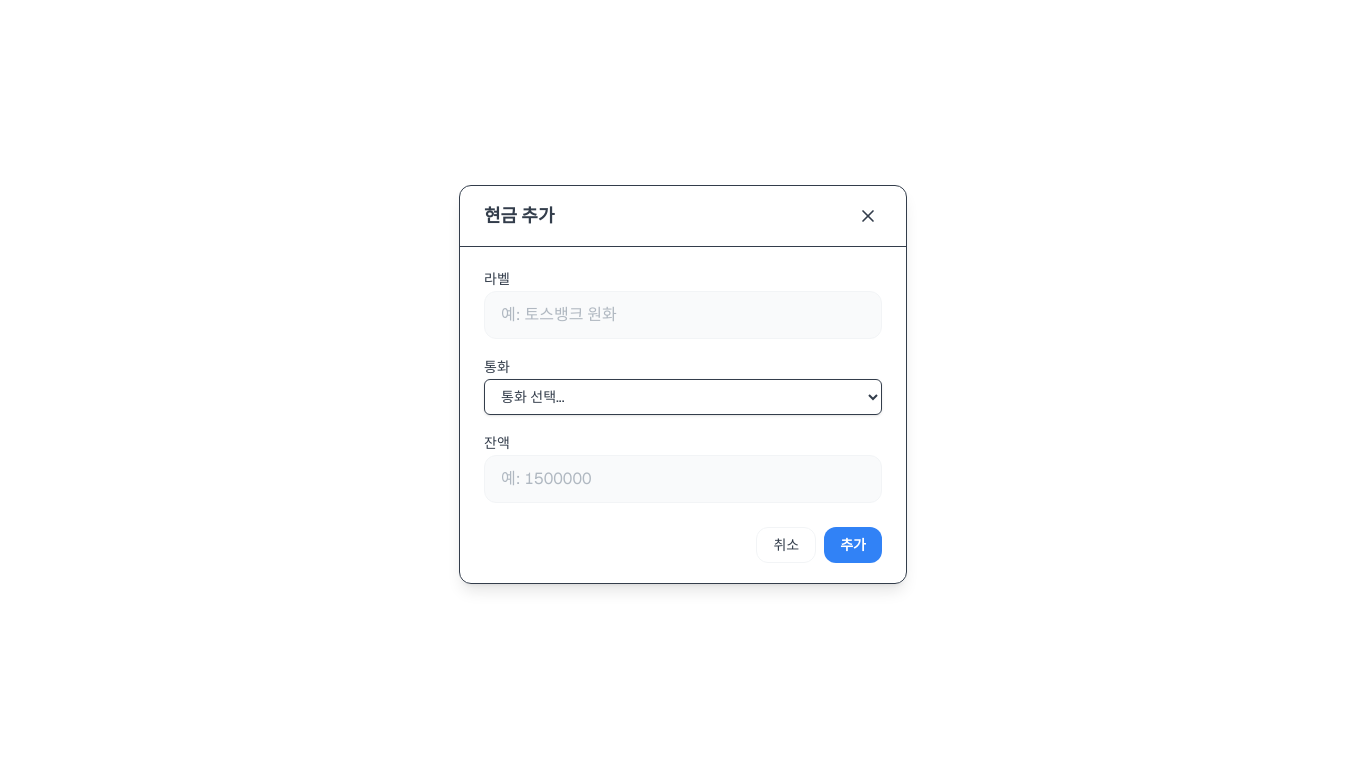
it: CashAccountAddDialog › 폼 검증 › 음수 잔액 입력 시 에러가 표시된다
This screenshot has width=1366, height=768.
Type "테스트 계좌" into the field named "계좌 라벨" at (683, 314), box [484,290,882,338]
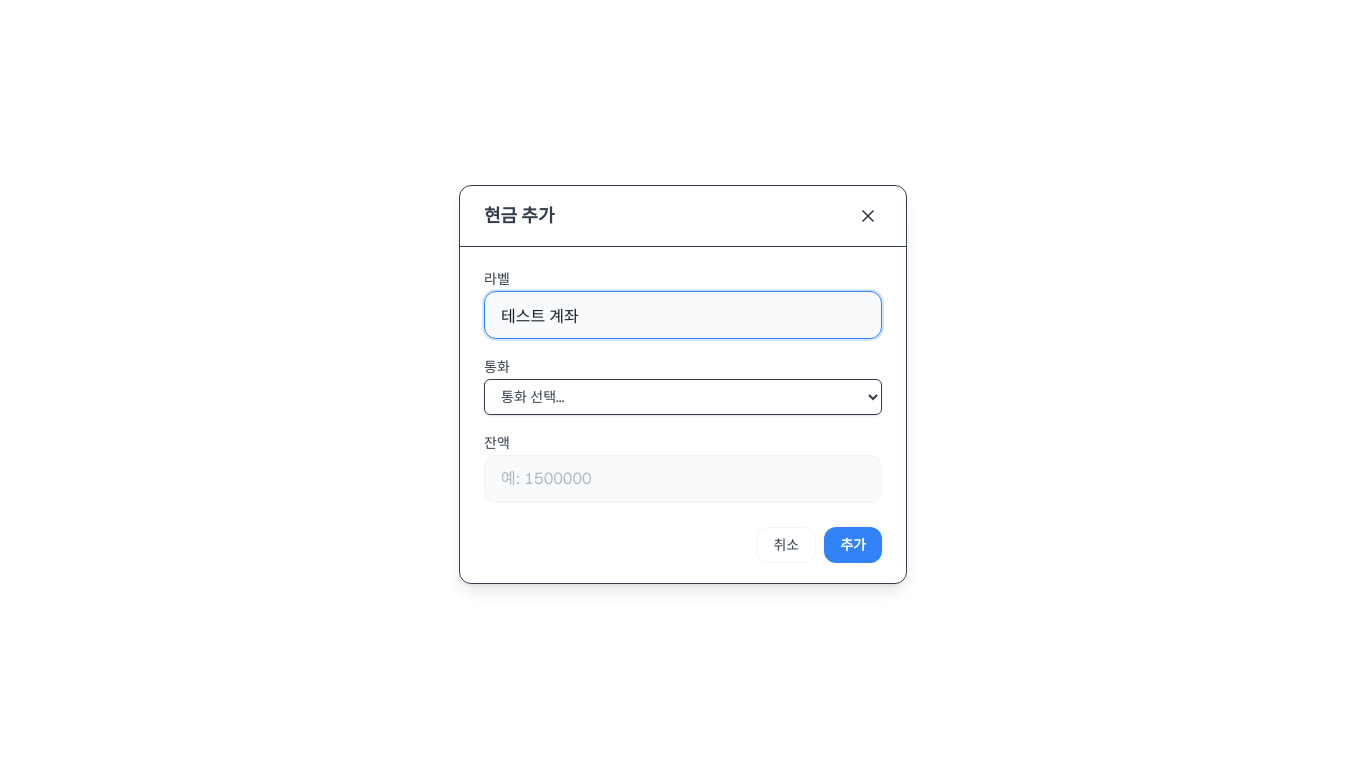
Select "KRW — 한국 원" in the dropdown named "통화 선택" at (683, 396), box [484,378,882,414]
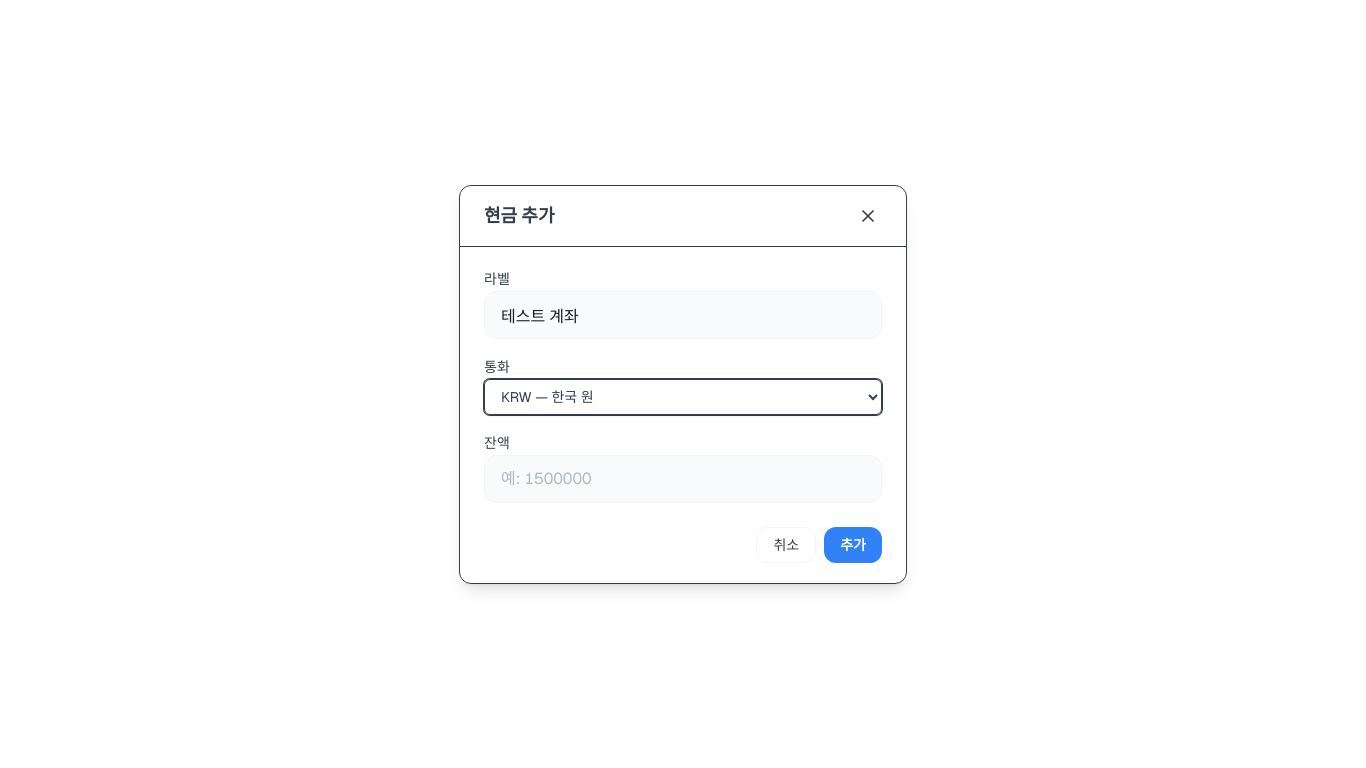
Type "-100" into the field named "계좌 잔액" at (683, 478), box [484,454,882,502]
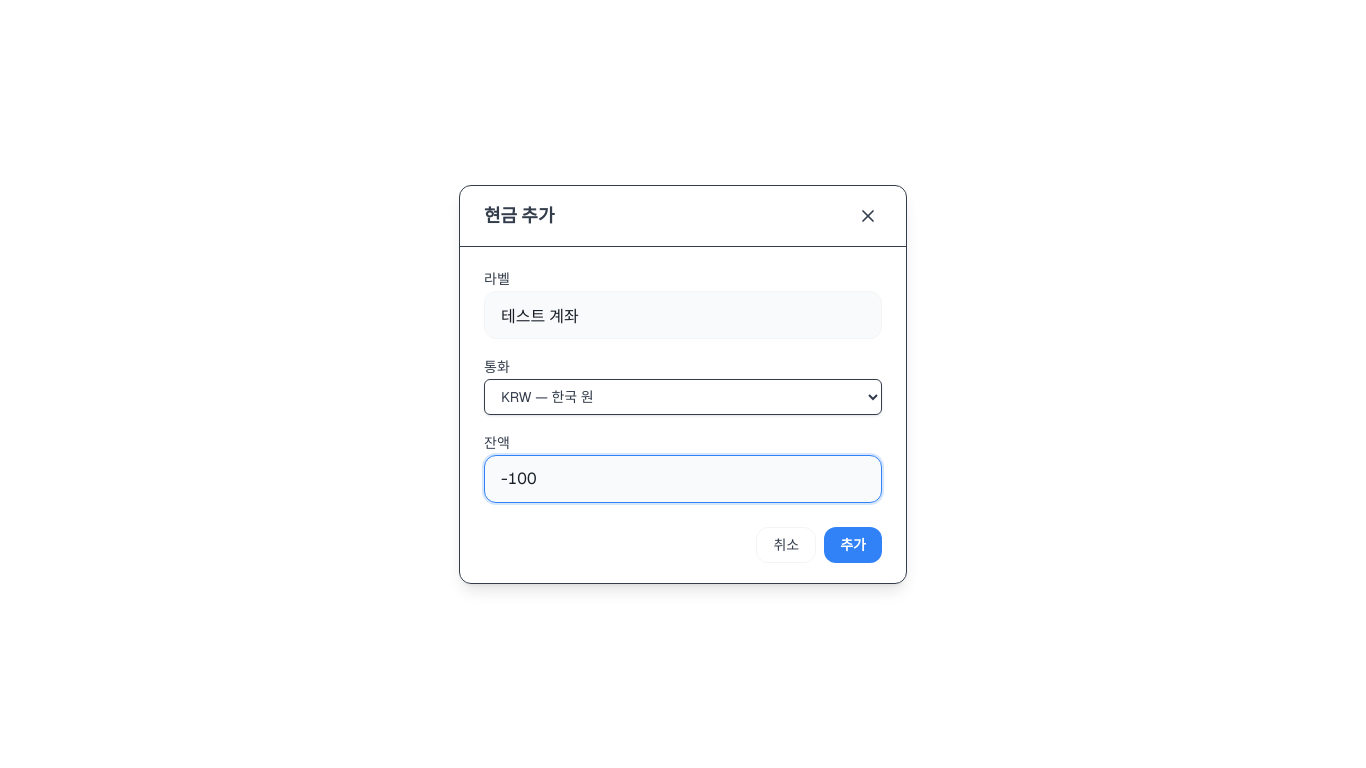
Click the button "추가" at (853, 544), box [824,526,882,562]
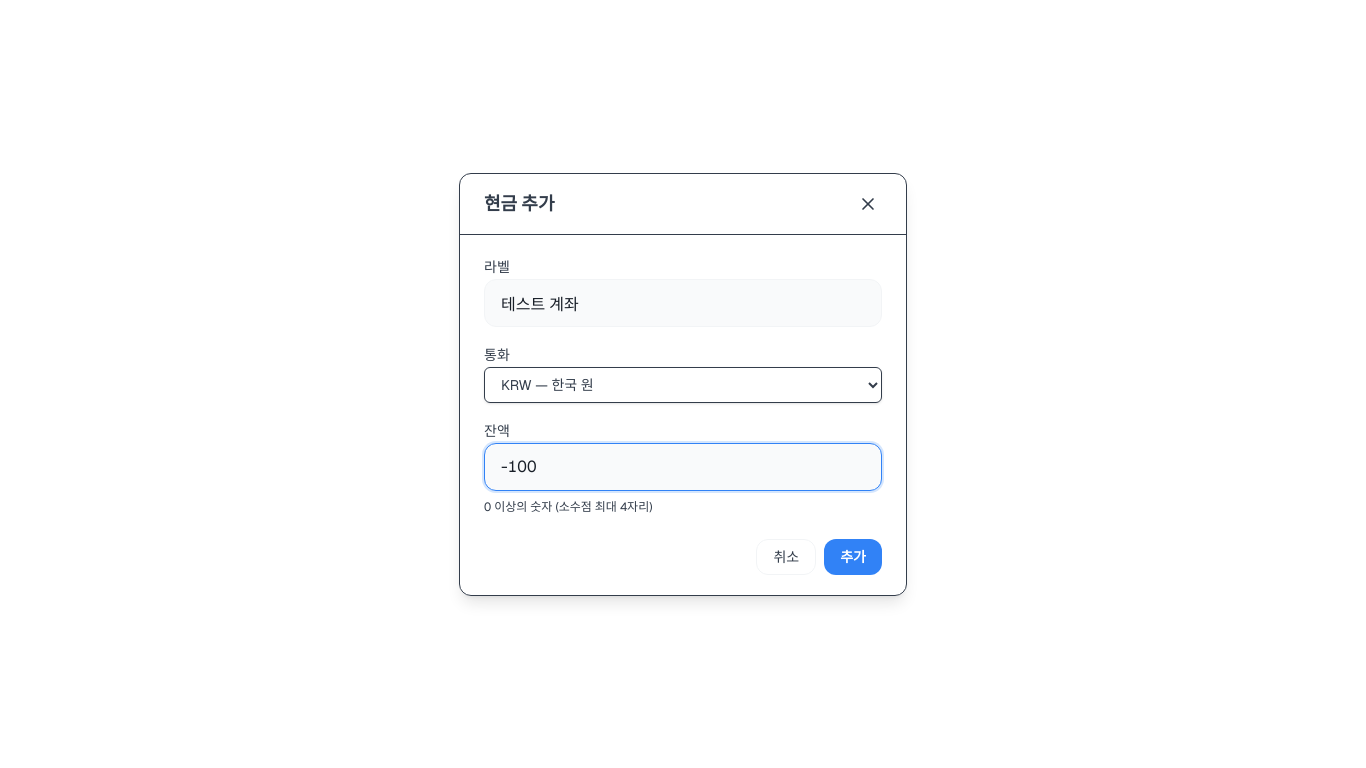
Result: the text "0 이상의 숫자 (소수점 최대 4자리)" is shown at [484,498,652,514]
